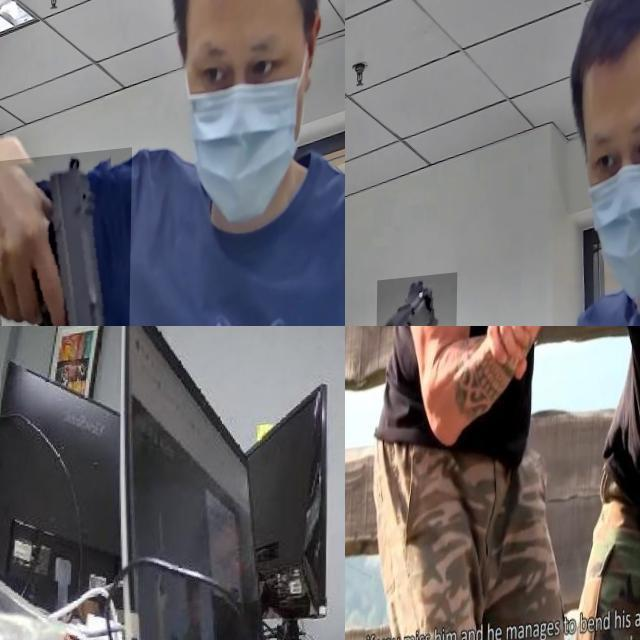-: (551, 326, 618, 403)
gun-knife-thesis - v11 Yolov5 augmented: (0, 155, 132, 326), (375, 280, 458, 326)
